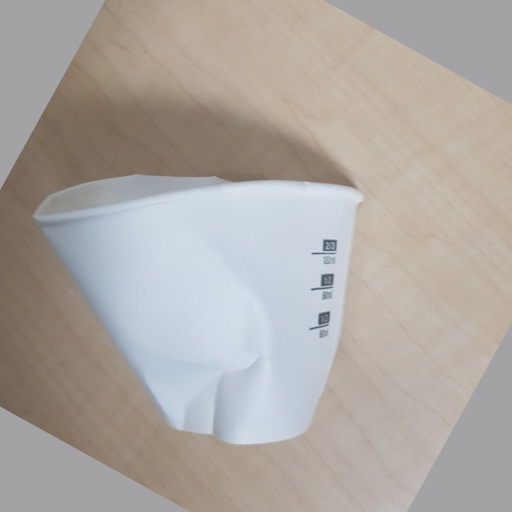Paper_1: (36, 174, 367, 445)
